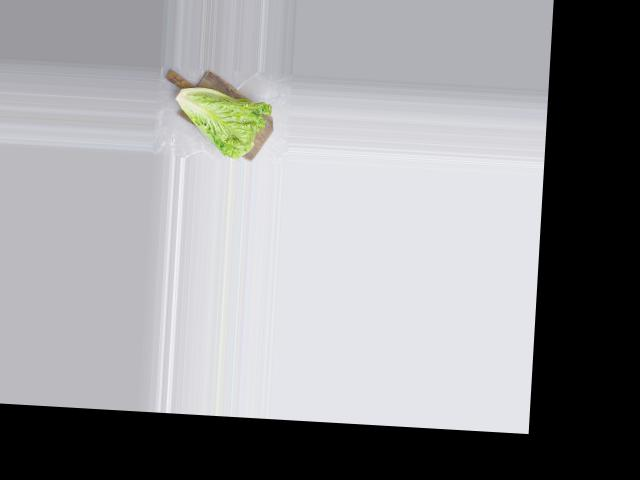lettuce: (168, 75, 273, 159)
